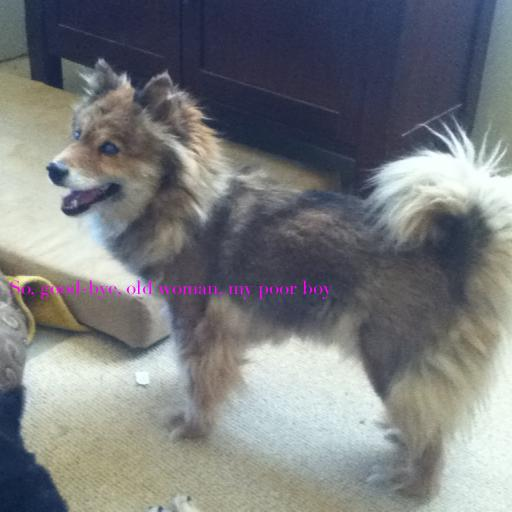Didot: (8, 280, 332, 300)
